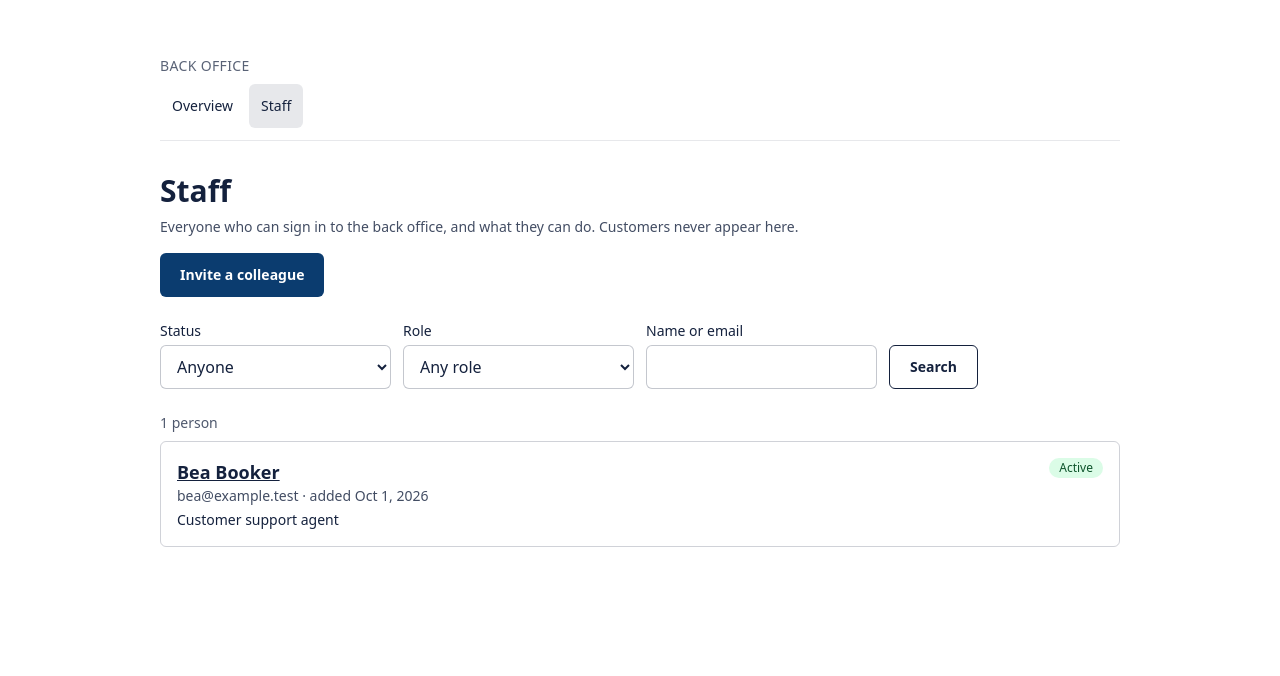
Scenario: staff list › inviting › explains an email that is already taken, keeping what was typed
Click the button "Invite a colleague": (242, 275) [160,253,324,297]
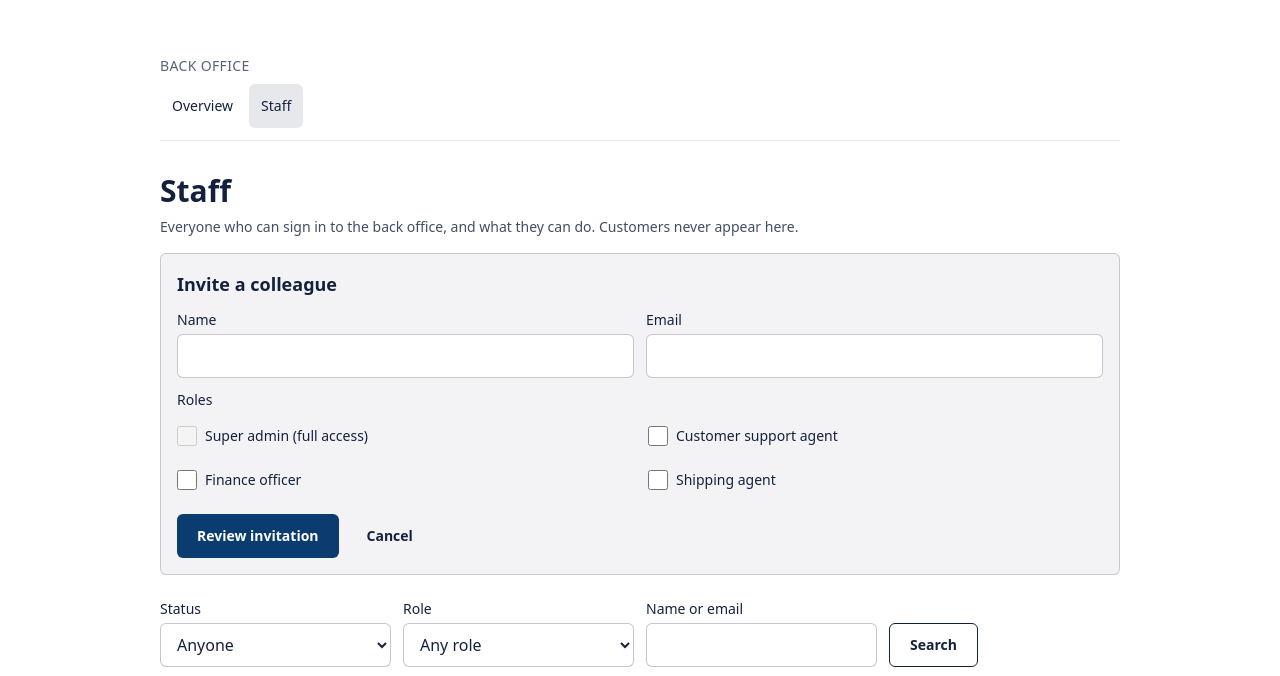
In the field labelled "Name": (406, 356) [177,334,634,378], type "Dee"
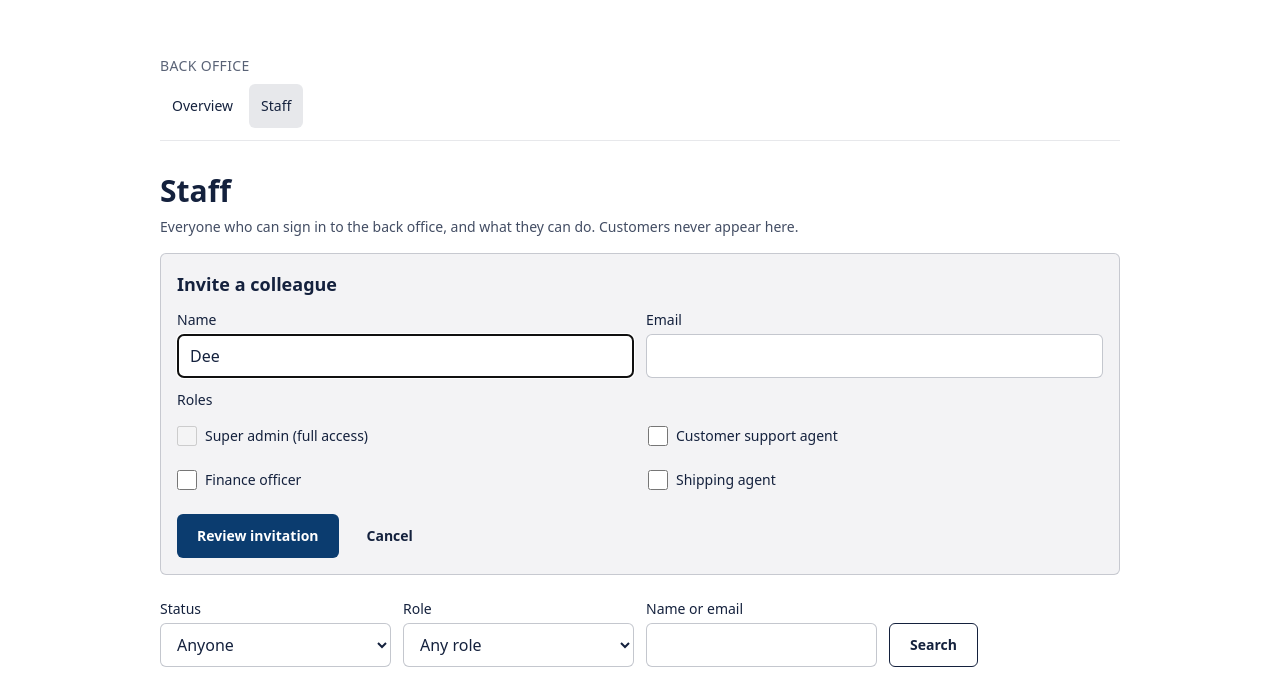
In the field labelled "Email": (874, 356) [646,334,1103,378], type "dee@example.test"
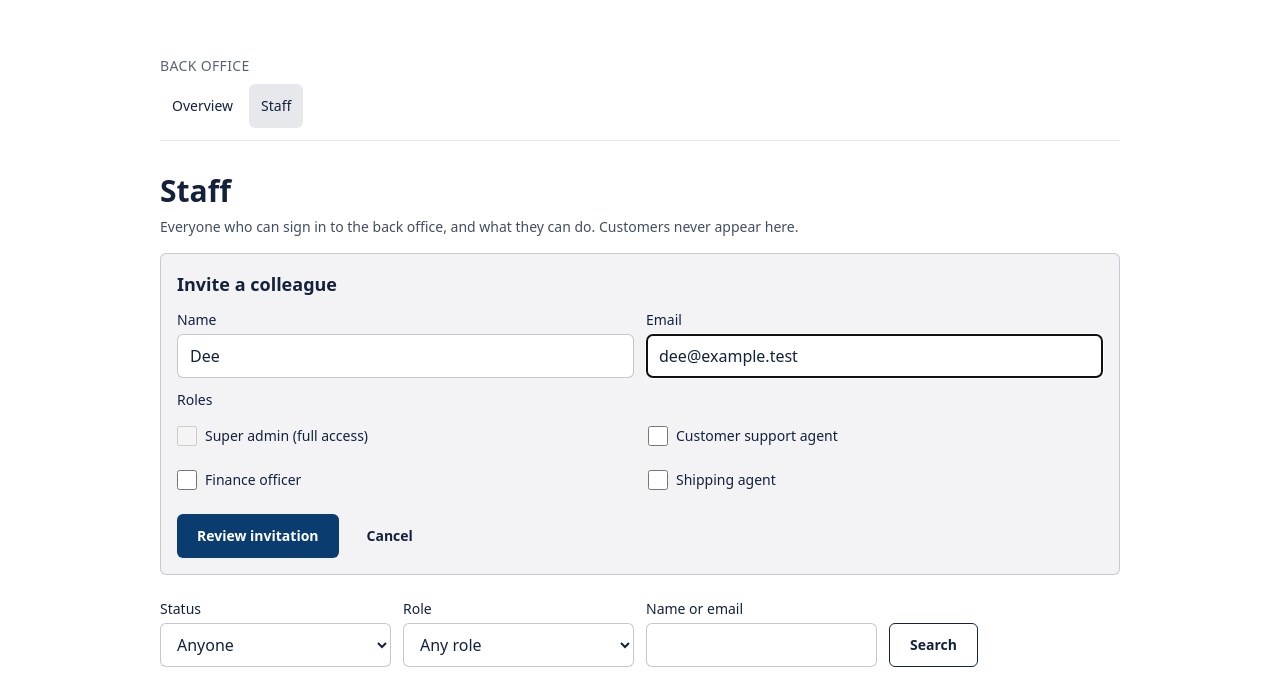
Click the checkbox labelled "Shipping agent": (658, 480) [648,470,668,490]
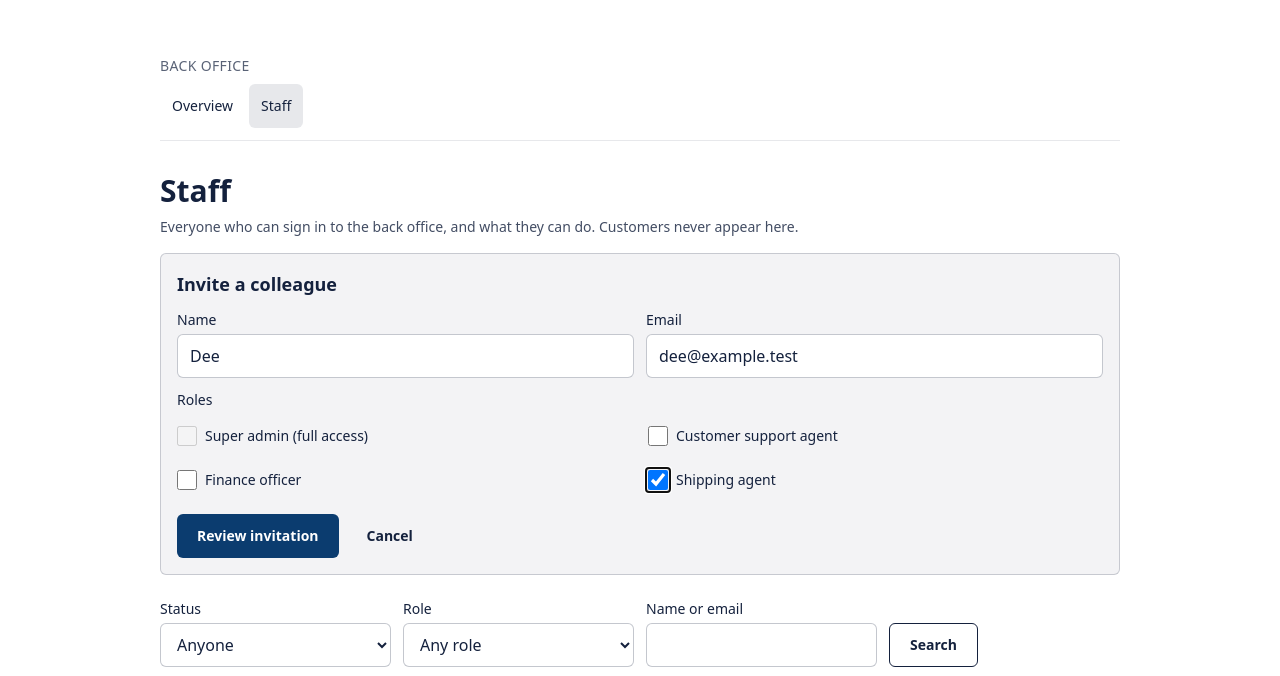
Click the button "Review invitation": (258, 536) [177,514,338,558]
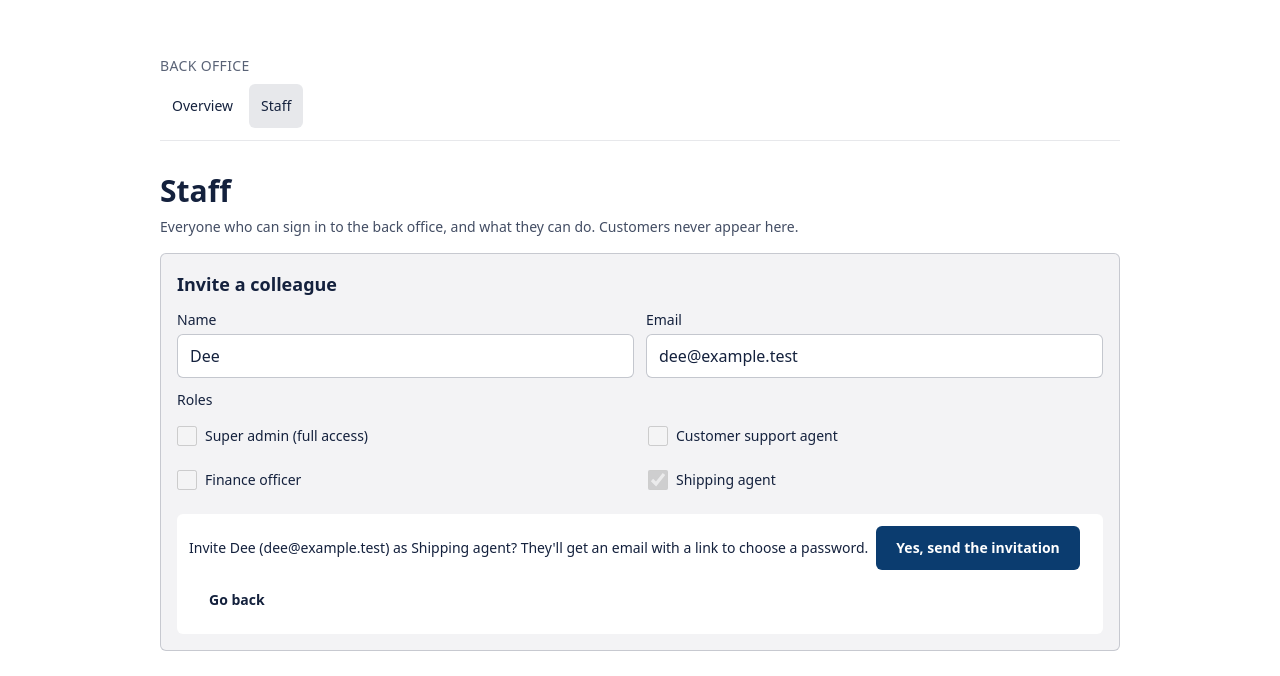
Click the button "Yes, send the invitation": (978, 548) [876,526,1080,570]
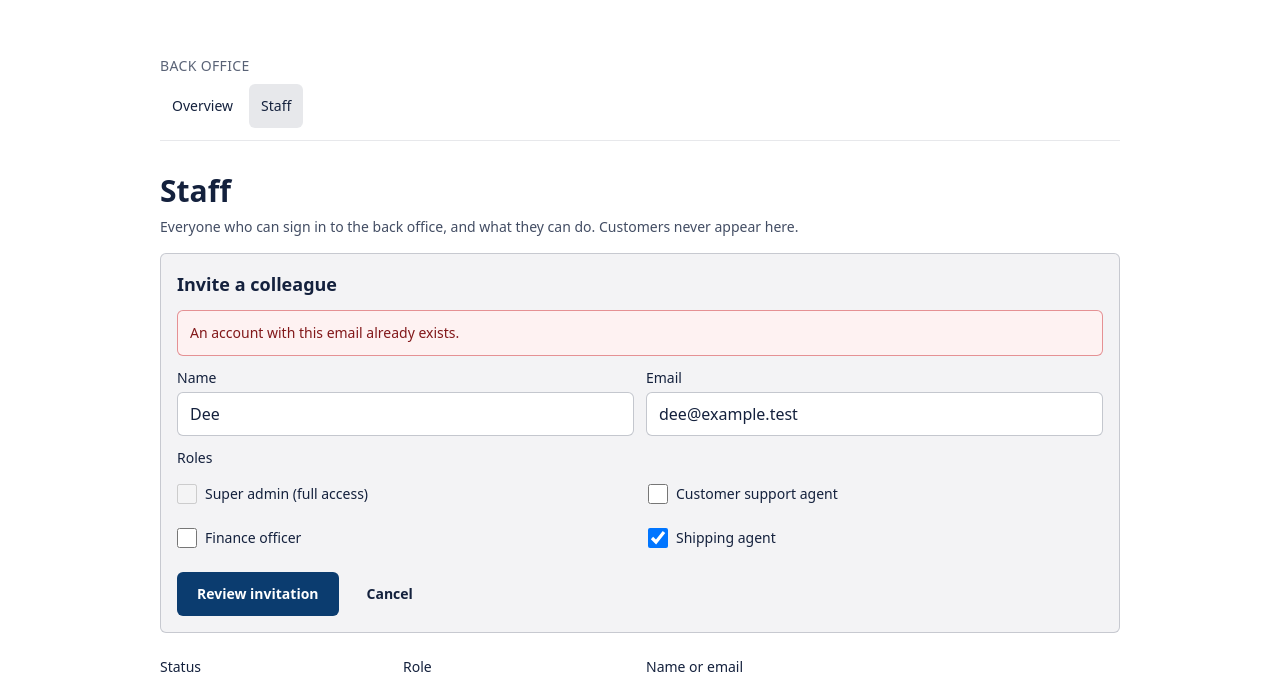
Now the message reads "An account with this email already exists.", box [190,323,459,342]
